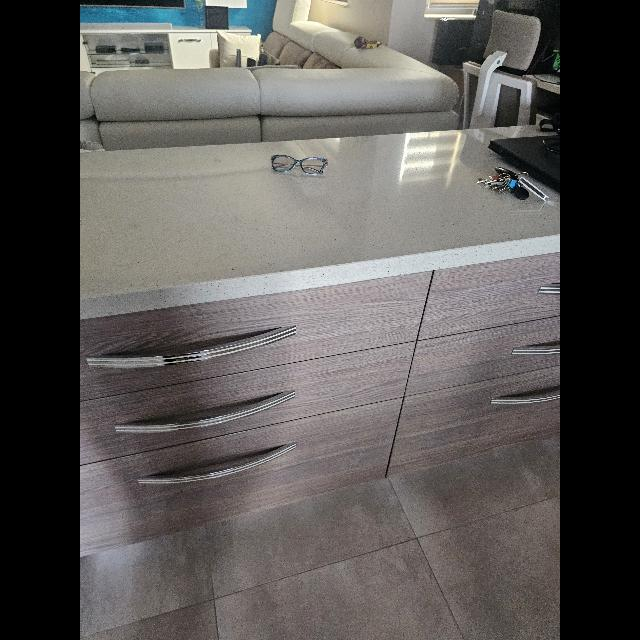Keys: (477, 167, 529, 199)
glasses: (270, 156, 328, 174)
